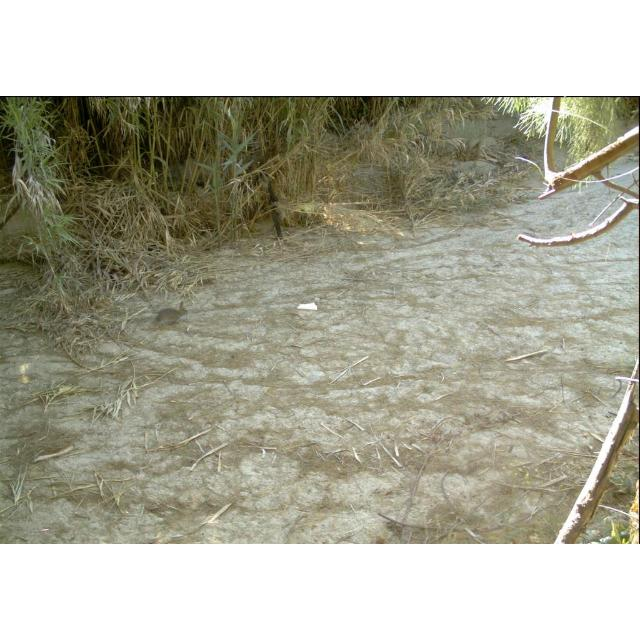animals: (154, 300, 192, 328)
